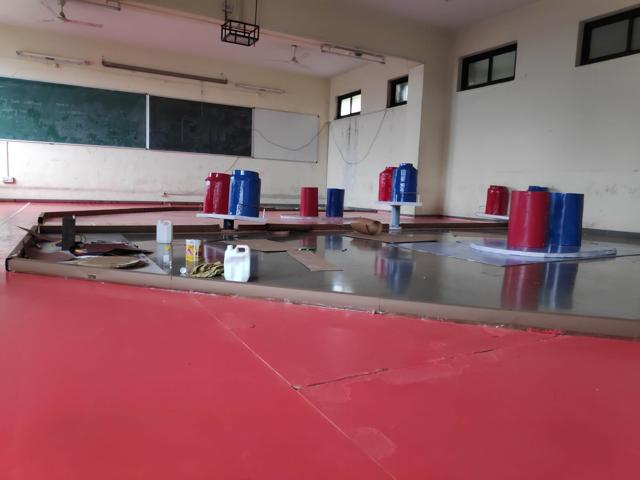Blue: (550, 191, 583, 245), (230, 171, 262, 216), (392, 162, 418, 200), (325, 190, 344, 219)
Red: (508, 191, 549, 247), (201, 170, 229, 213), (484, 185, 510, 215), (299, 185, 318, 216), (379, 168, 394, 202)
